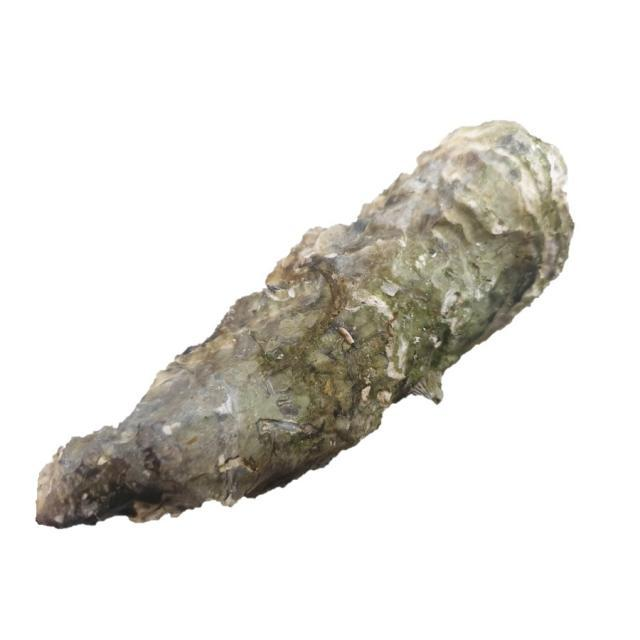Oyster- Indeterminate: (26, 110, 584, 540)
